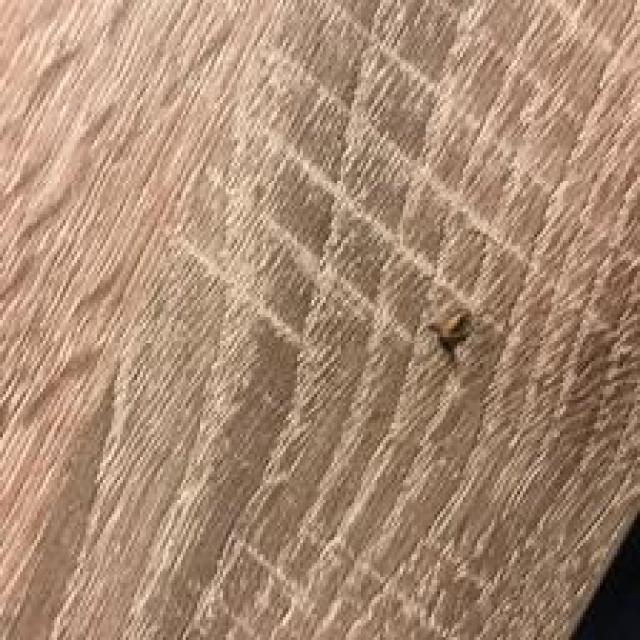Culex: (426, 307, 474, 362)
